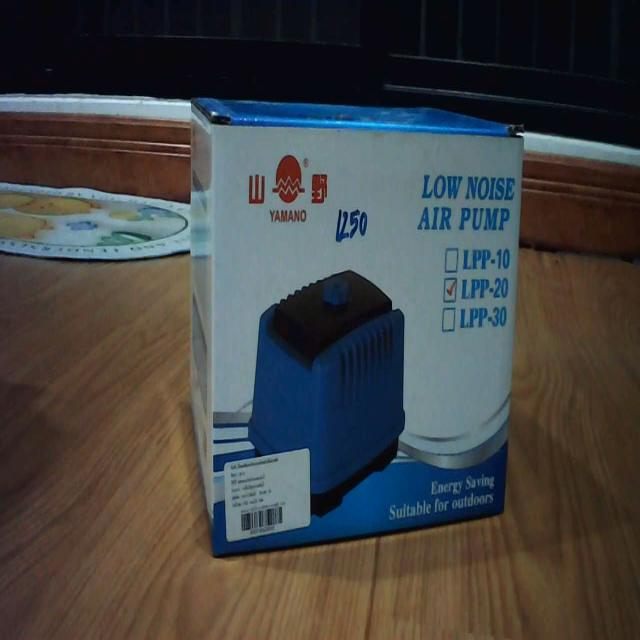YAMANO_LPP_20: (182, 74, 530, 566)
